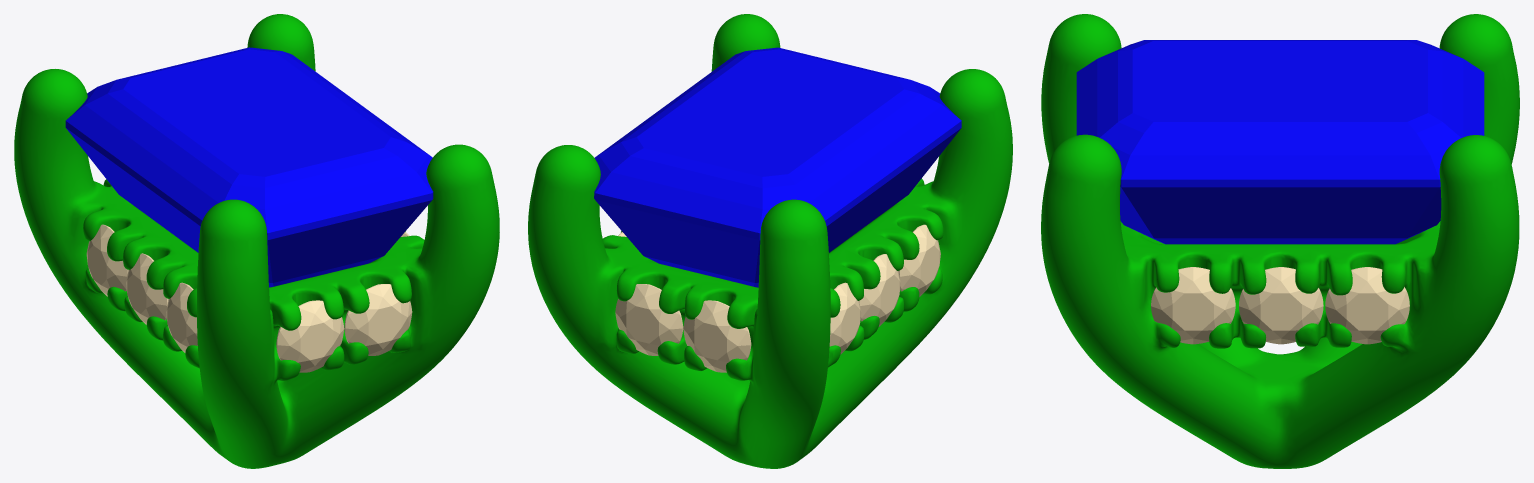
3 views of the same model, side by side, from view 1: azimuth 30°, elevation 25°; view 2: azimuth 150°, elevation 25°; view 3: azimuth 270°, elevation 25° (orthographic). The views are drawn at different scales.
Visible parts, largest first — view 1: Metal01, Diamond_Emerald, Diamond_Round, Diamond_Round.009, Diamond_Round.007, Diamond_Round.008, Diamond_Round.006; view 2: Metal01, Diamond_Emerald, Diamond_Round.004, Diamond_Round.005, Diamond_Round.006, Diamond_Round.007, Diamond_Round.008; view 3: Metal01, Diamond_Emerald, Diamond_Round.003, Diamond_Round.002, Diamond_Round.001.
Part boxes in pixels (bbox=[...]): Metal01: bbox=[14, 14, 499, 468]; Diamond_Emerald: bbox=[65, 47, 433, 287]; Diamond_Round: bbox=[276, 300, 344, 372]; Diamond_Round.009: bbox=[344, 284, 412, 355]; Diamond_Round.007: bbox=[126, 253, 168, 324]; Diamond_Round.008: bbox=[86, 224, 128, 296]; Diamond_Round.006: bbox=[166, 282, 197, 352]; Metal01: bbox=[528, 14, 1012, 468]; Diamond_Emerald: bbox=[594, 47, 961, 287]; Diamond_Round.004: bbox=[683, 300, 751, 372]; Diamond_Round.005: bbox=[615, 284, 683, 355]; Diamond_Round.006: bbox=[898, 224, 940, 296]; Diamond_Round.007: bbox=[859, 254, 900, 326]; Diamond_Round.008: bbox=[829, 282, 861, 354]; Metal01: bbox=[1041, 14, 1519, 468]; Diamond_Emerald: bbox=[1076, 40, 1484, 244]; Diamond_Round.003: bbox=[1151, 267, 1235, 344]; Diamond_Round.002: bbox=[1239, 267, 1323, 344]; Diamond_Round.001: bbox=[1325, 267, 1409, 344].
Size of the model in its own units: 4.82 by 5.41 by 6.22.
